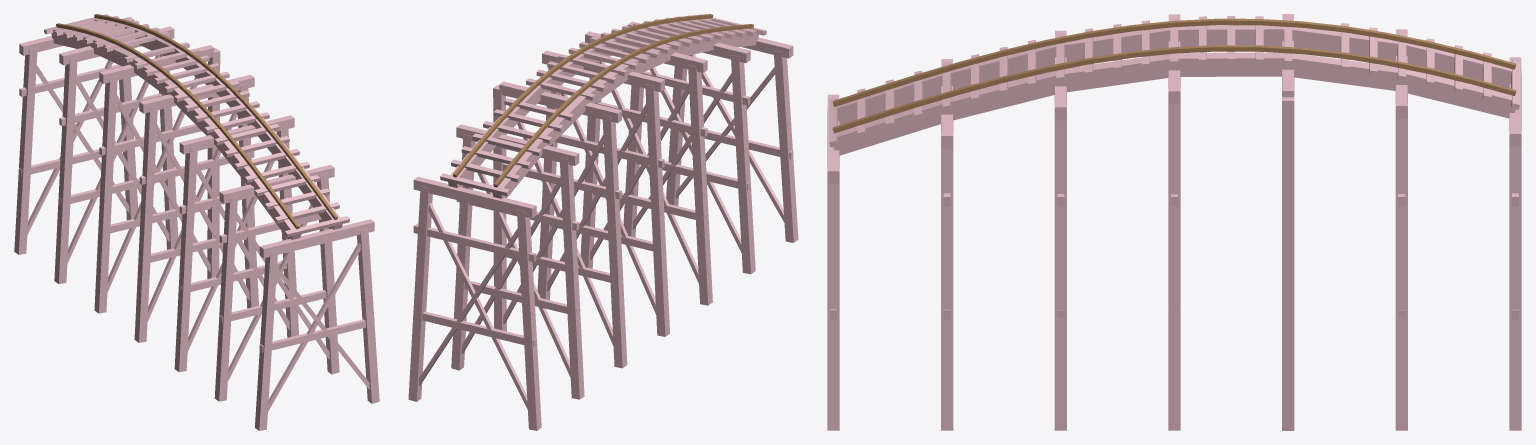
File: coaster.glb
The picture shows the model from 3 angles, left to right: view 1: azimuth 30°, elevation 25°; view 2: azimuth 150°, elevation 25°; view 3: azimuth 270°, elevation 25°; orthographic projection. The views are drawn at different scales.
Parts seen in each view (by area): view 1: coaster, rails; view 2: coaster, rails; view 3: coaster, rails.
Part boxes in pixels (left/top/right/bottom): coaster: left=14, top=14, right=379, bottom=430; rails: left=56, top=14, right=337, bottom=229; coaster: left=408, top=14, right=798, bottom=430; rails: left=453, top=14, right=753, bottom=187; coaster: left=827, top=14, right=1521, bottom=430; rails: left=832, top=18, right=1516, bottom=133.
Bounding box in the file's own units: 3.49 × 6.93 × 12.22.
